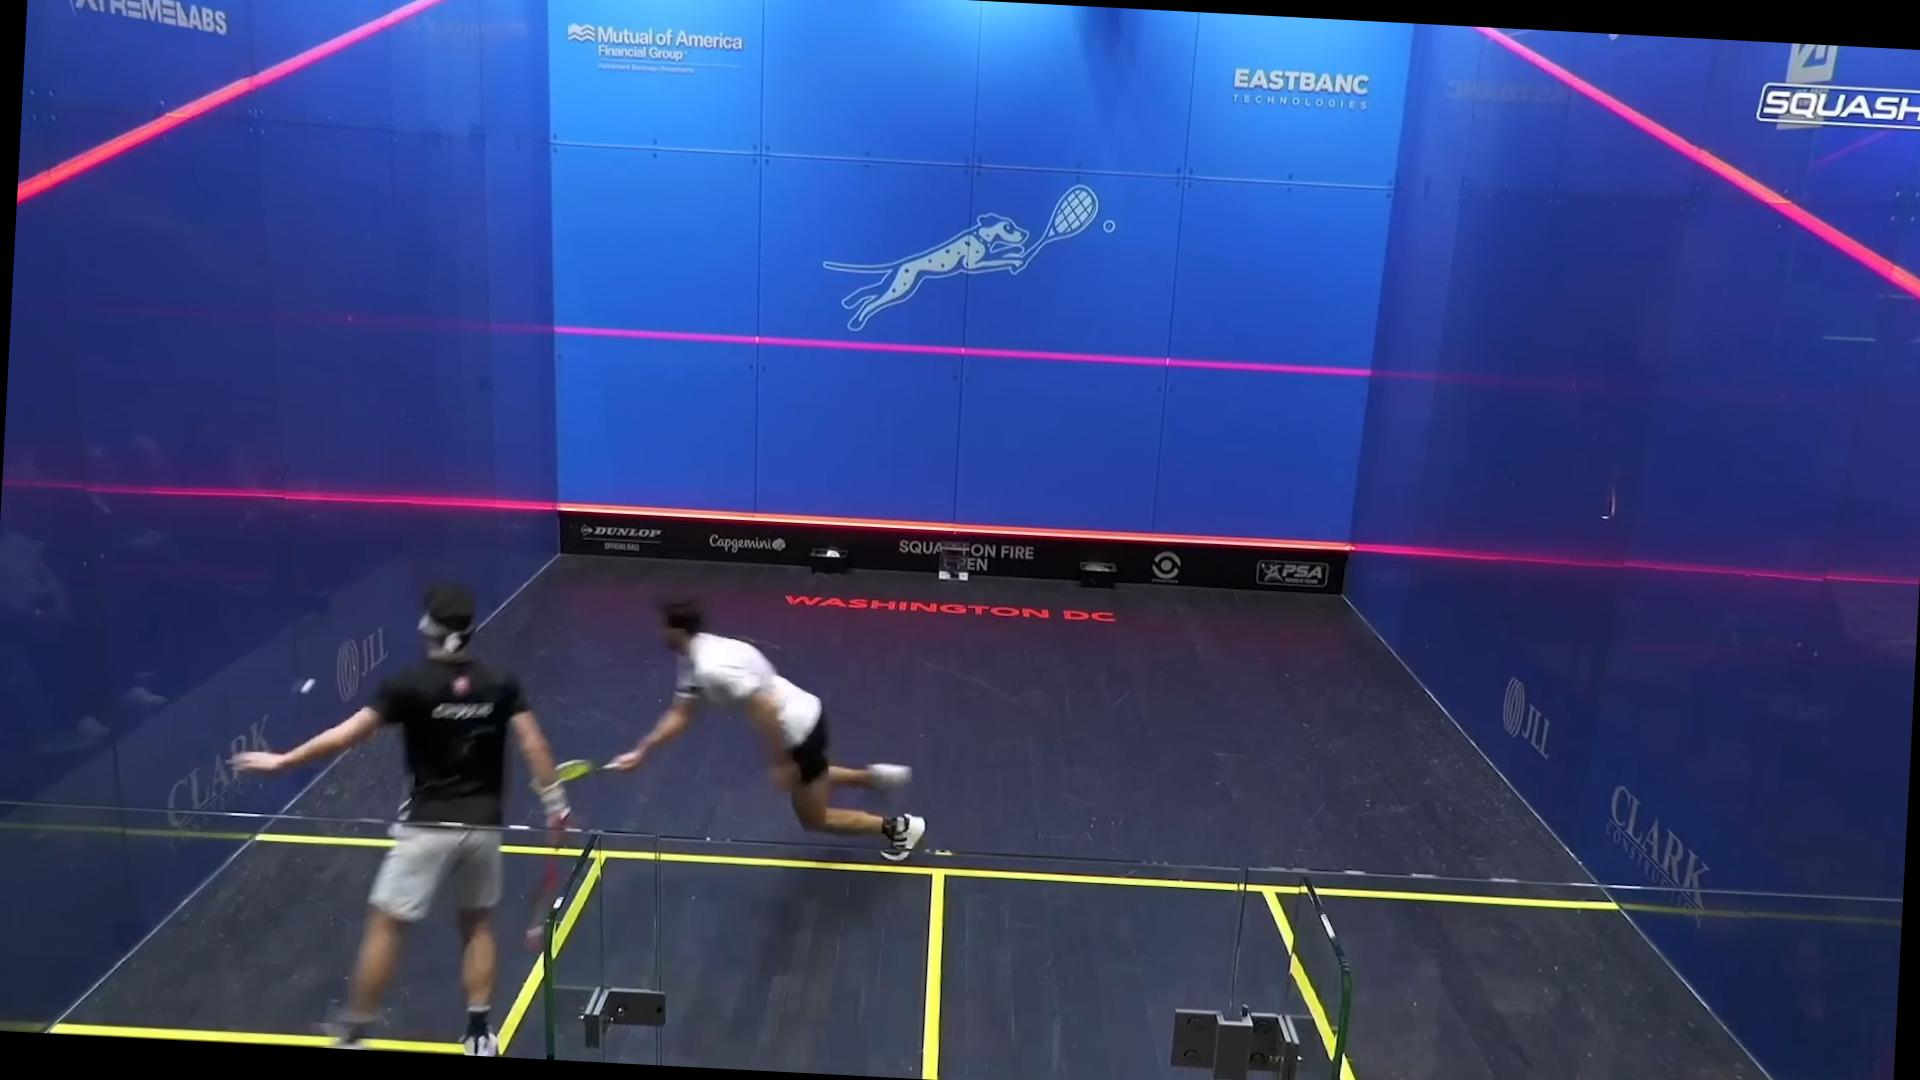Squash-Ball: (289, 662, 324, 708)
